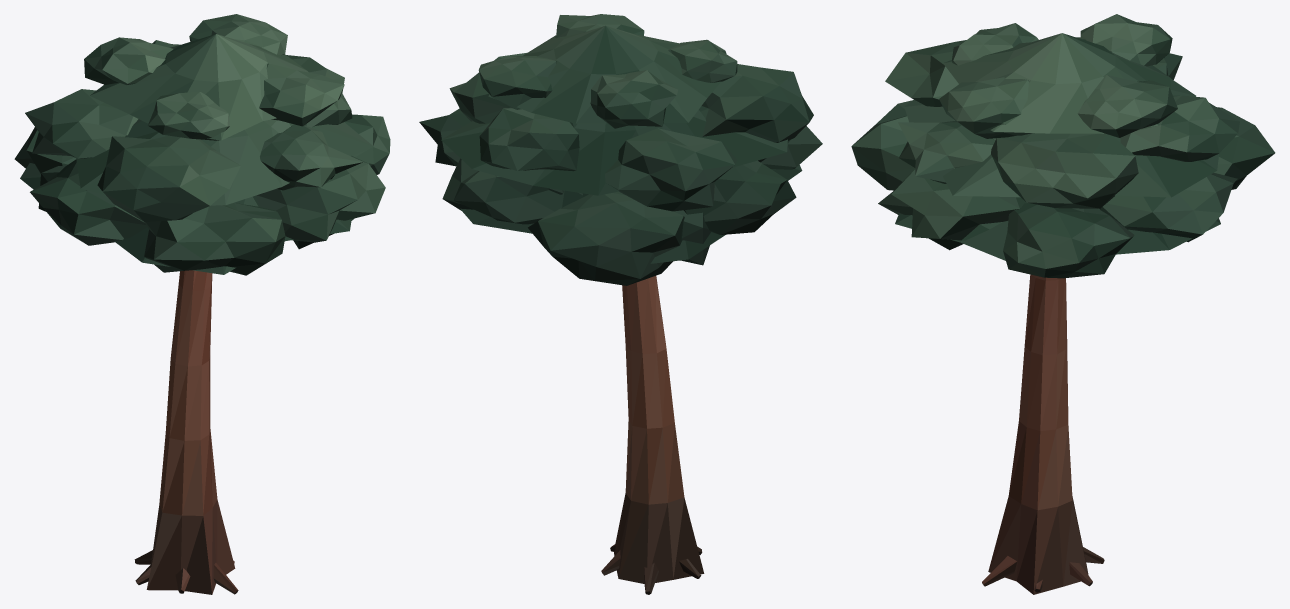
File: conifer-umbrella.glb
3 renders of one model, left to right at view 1: azimuth 30°, elevation 25°; view 2: azimuth 150°, elevation 25°; view 3: azimuth 270°, elevation 25°, orthographic. The views are drawn at different scales.
Visible parts, largest first — view 1: canopy, trunk; view 2: canopy, trunk; view 3: canopy, trunk.
Part boxes in pixels (left/top/right/bottom): canopy: left=14, top=14, right=390, bottom=275; trunk: left=134, top=270, right=238, bottom=594; canopy: left=419, top=14, right=822, bottom=285; trunk: left=601, top=276, right=704, bottom=594; canopy: left=851, top=14, right=1275, bottom=278; trunk: left=982, top=274, right=1104, bottom=594.
Bounding box in the file's own units: 4.95 × 7.16 × 4.9.
